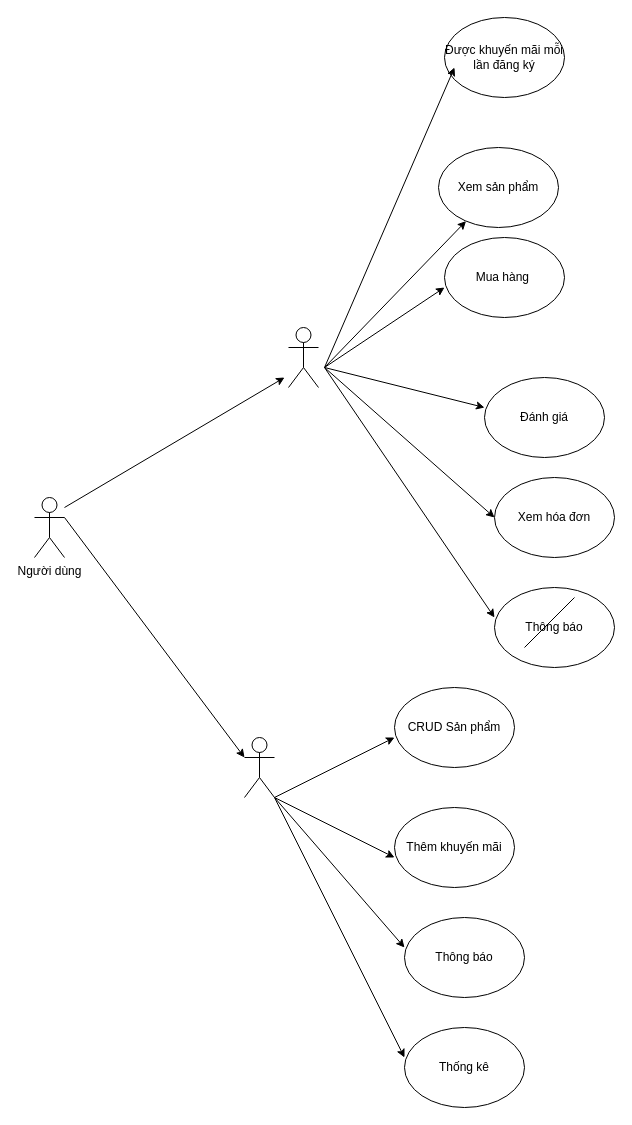
Image size: 632x1125. Some labels were removed from this diagram. The shapes that lost their labels are listed below. From the top down, each one's centre as x and y in pixels, then its label:
At [303,357]: "Người mua".
At [259,767]: "Người bán".
